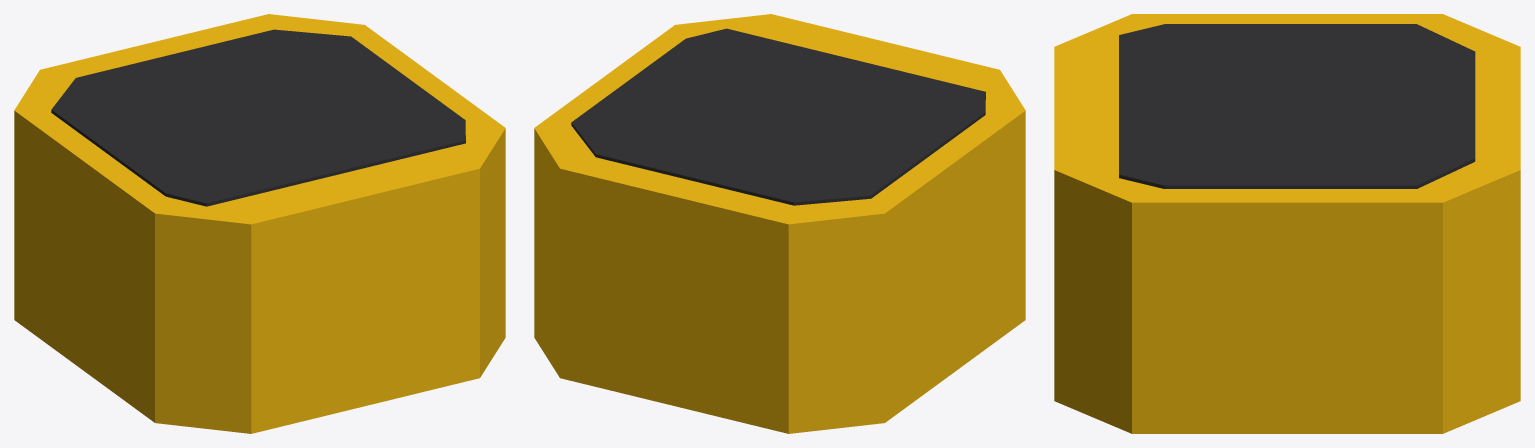
Rendered from working.glb.
The picture shows the model from 3 angles, left to right: view 1: azimuth 30°, elevation 25°; view 2: azimuth 150°, elevation 25°; view 3: azimuth 270°, elevation 25°; orthographic projection. The views are drawn at different scales.
Visible parts, largest first — view 1: Yellow case, Dark front panel; view 2: Yellow case, Dark front panel; view 3: Yellow case, Dark front panel.
Part boxes in pixels (x1,y1,x2,y2): Yellow case: (14,14,505,433); Dark front panel: (51,29,465,206); Yellow case: (534,14,1025,433); Dark front panel: (571,28,985,205); Yellow case: (1054,14,1520,433); Dark front panel: (1119,24,1475,188).
Size of the model in its own units: 0.069 by 0.04 by 0.072.
